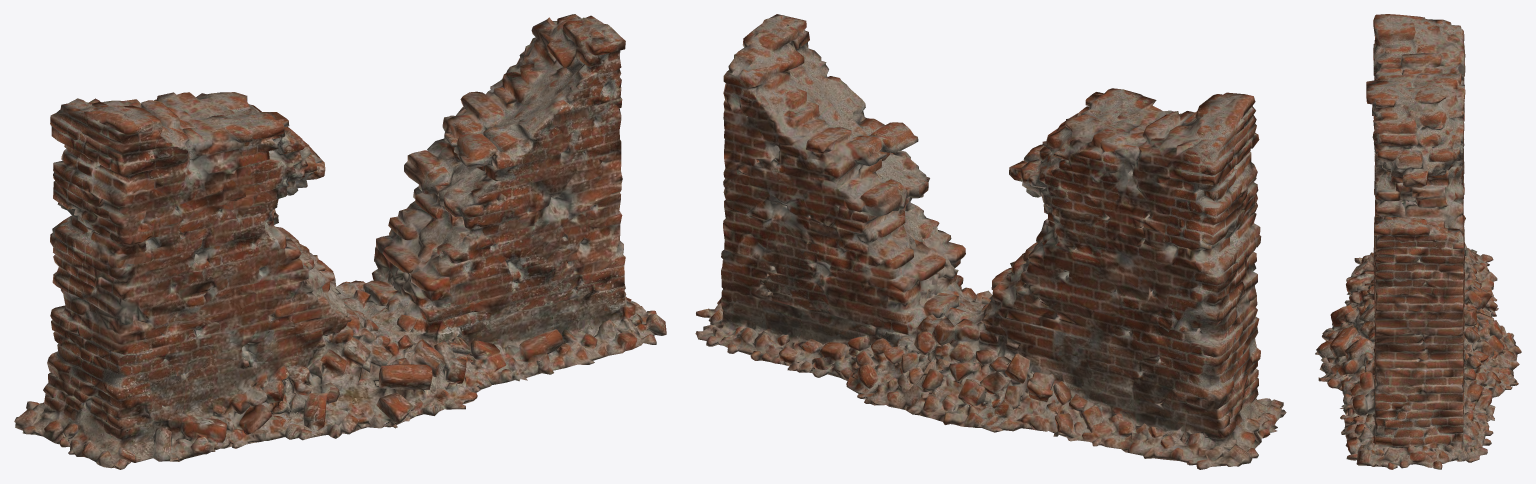
Rendered from brick_wall_ruin.glb.
3 renders of one model, left to right at view 1: azimuth 30°, elevation 25°; view 2: azimuth 150°, elevation 25°; view 3: azimuth 270°, elevation 25°, orthographic. The views are drawn at different scales.
Size of the model in its own units: 1.89 by 1.01 by 0.74.
Materials: 1 (1 with a texture image).
